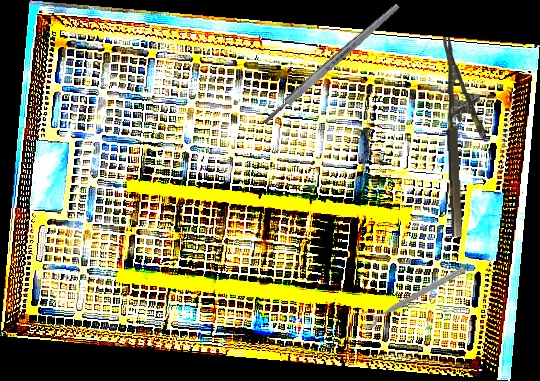Fixation Ring: (355, 257, 470, 332)
Needle Holder: (442, 35, 490, 238)
Scalpel Handle: (260, 1, 402, 127)
